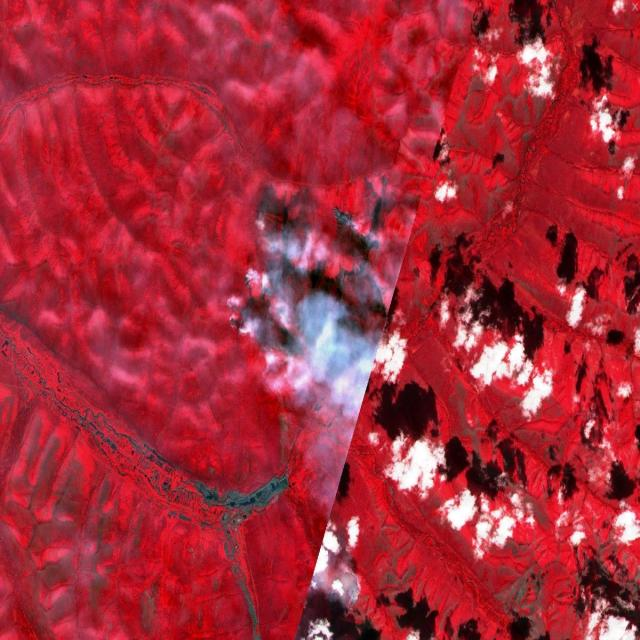fire: (225, 170, 392, 400), (328, 564, 366, 626)
